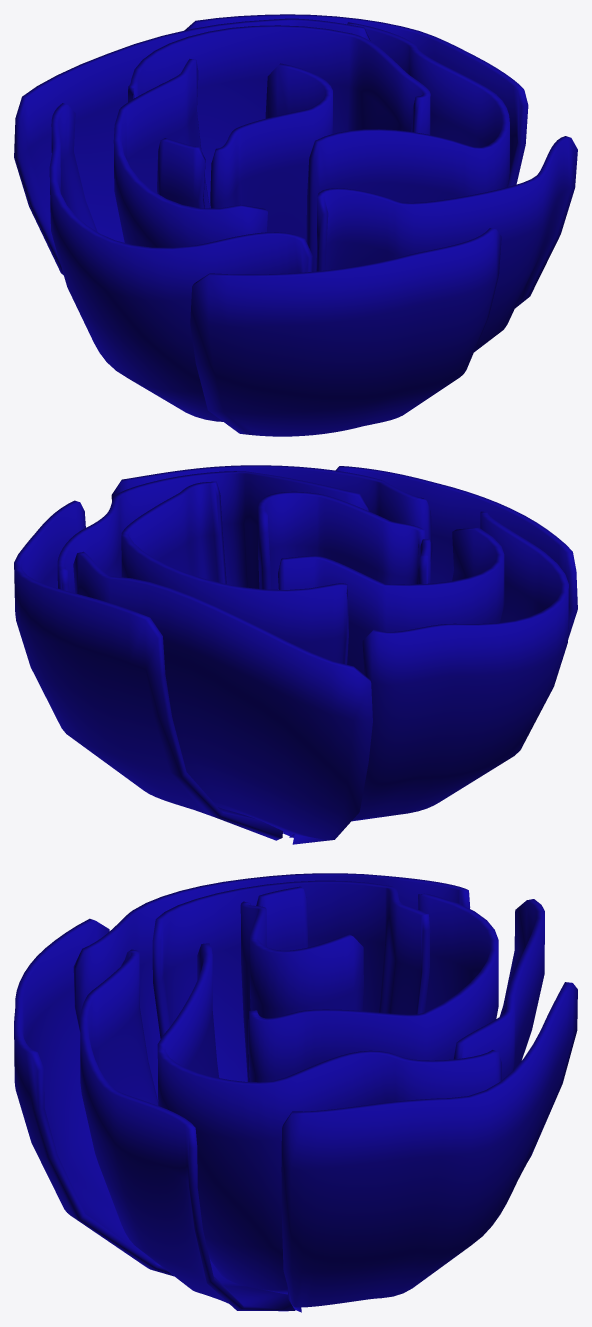
The model's file is flower.fbx.
3 views of the same model, one above another, from view 1: azimuth 30°, elevation 25°; view 2: azimuth 150°, elevation 25°; view 3: azimuth 270°, elevation 25° (orthographic). The views are drawn at different scales.
Parts seen in each view (by area): view 1: BézierCurve; view 2: BézierCurve; view 3: BézierCurve.
Part boxes in pixels (x1,y1,x2,y2): BézierCurve: [14, 14, 577, 436]; BézierCurve: [14, 465, 577, 844]; BézierCurve: [14, 873, 577, 1312].
Bounding box in the file's own units: 111 × 75.91 × 105.
